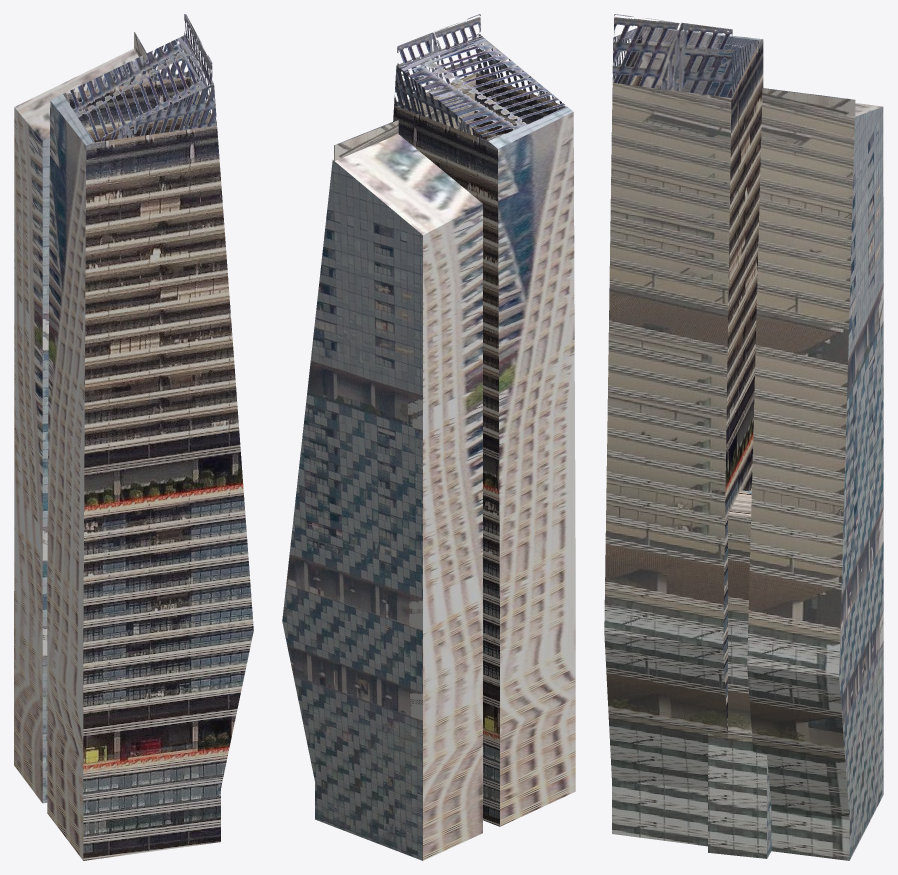
3 renders of one model, left to right at view 1: azimuth 30°, elevation 25°; view 2: azimuth 150°, elevation 25°; view 3: azimuth 270°, elevation 25°, orthographic. The views are drawn at different scales.
Parts seen in each view (by area): view 1: geometry_0, geometry_1; view 2: geometry_0, geometry_1; view 3: geometry_0, geometry_1.
Part boxes in pixels (x1,y1,x2,y2): geometry_0: (14,32,253,860); geometry_1: (63,14,216,142); geometry_0: (282,72,575,860); geometry_1: (339,14,568,143); geometry_0: (604,27,883,860); geometry_1: (612,14,853,99).
Bounding box in the file's own units: 63.21 × 219 × 68.
Materials: 2 (2 with a texture image).
